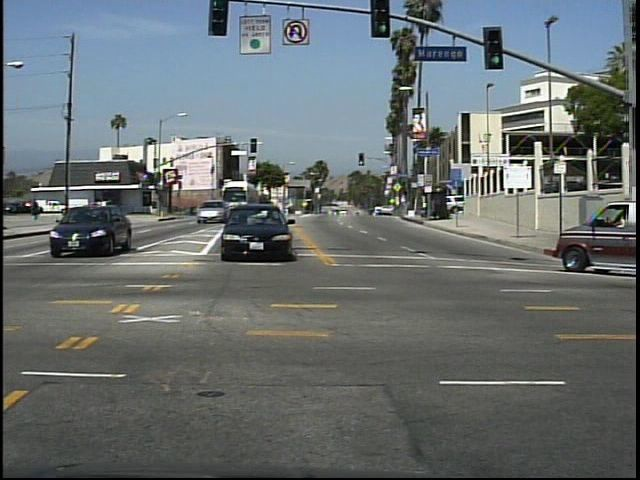person: (28, 194, 43, 222)
